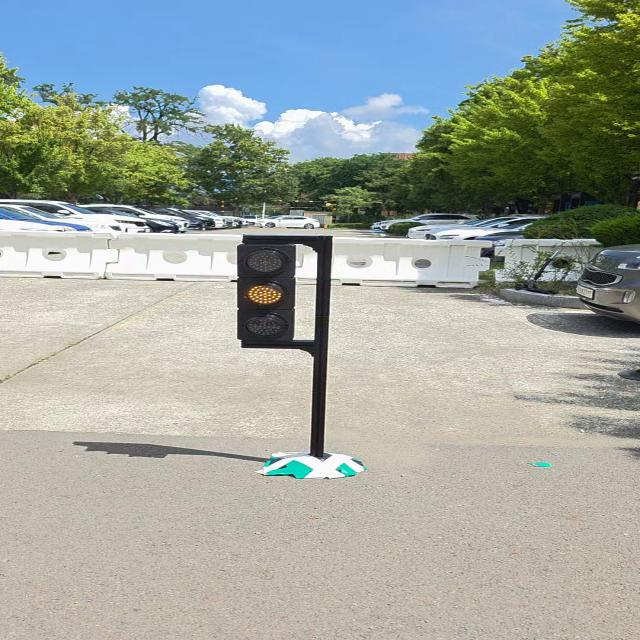yellow: (237, 245, 293, 342)
